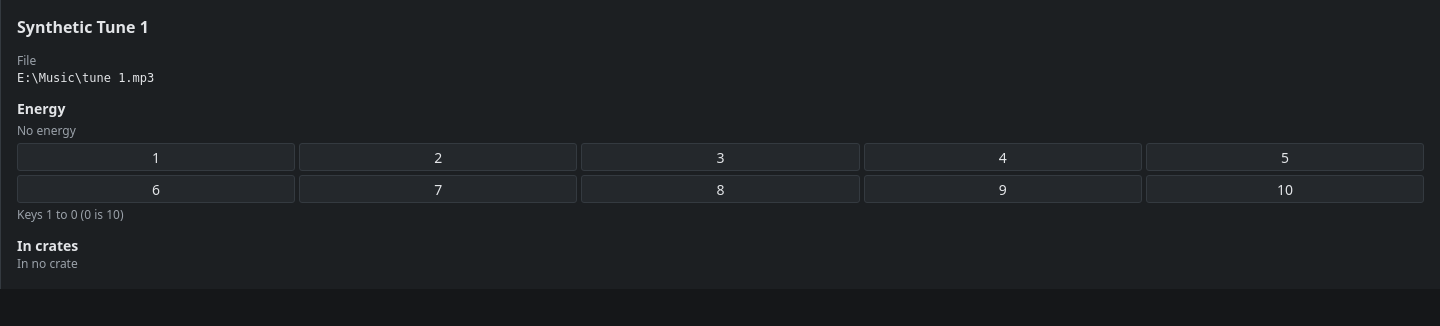
Test: the Details panel's Energy section › says when the energy could not be set
Click the button "2" at (438, 157), box [299,143,577,171]
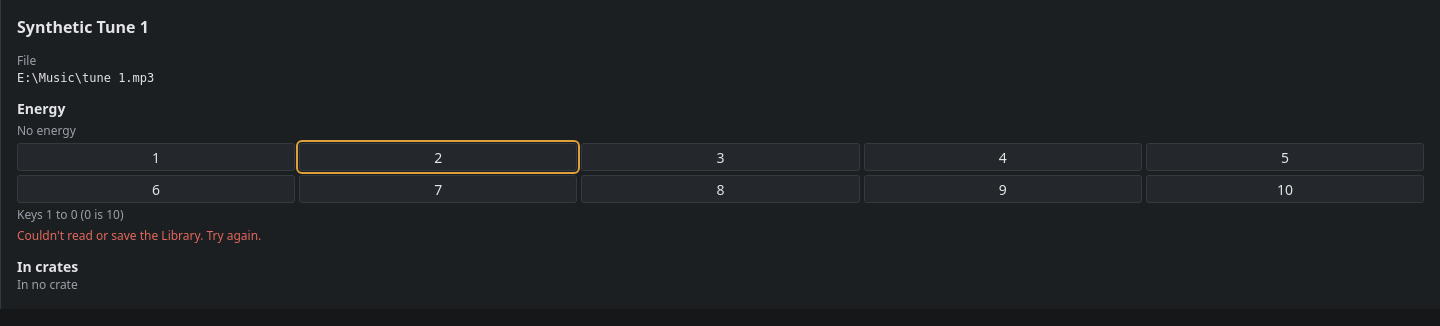
Now the message "Couldn't read or save the Library. Try again." is shown, box [17,227,261,244]
